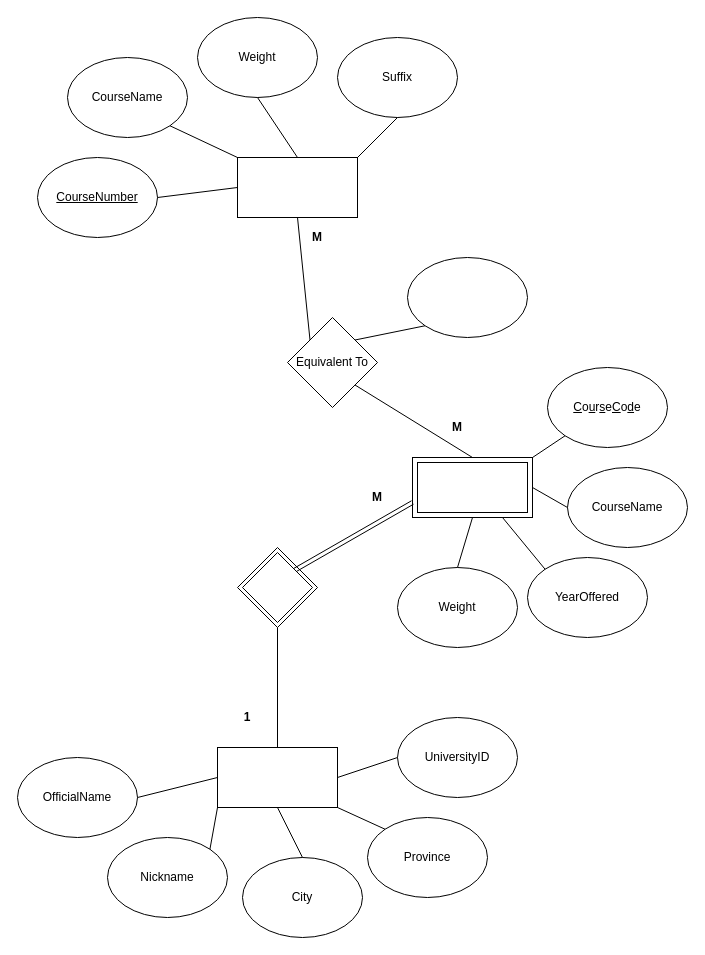
This 705x955 diagram has some shape labels left out. Each missing label, with the centre of its shape:
Date: the point at 467,297
Has: the point at 277,587
OtherCourse: the point at 472,487
University: the point at 277,777
Western Course: the point at 297,187
